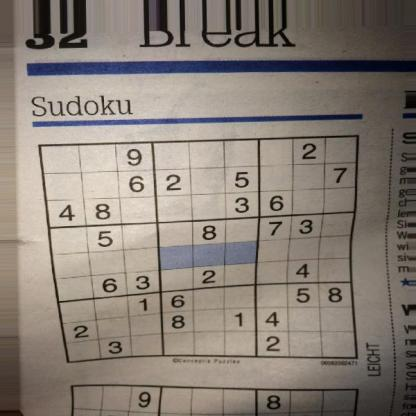sudoku: (35, 132, 362, 366)
